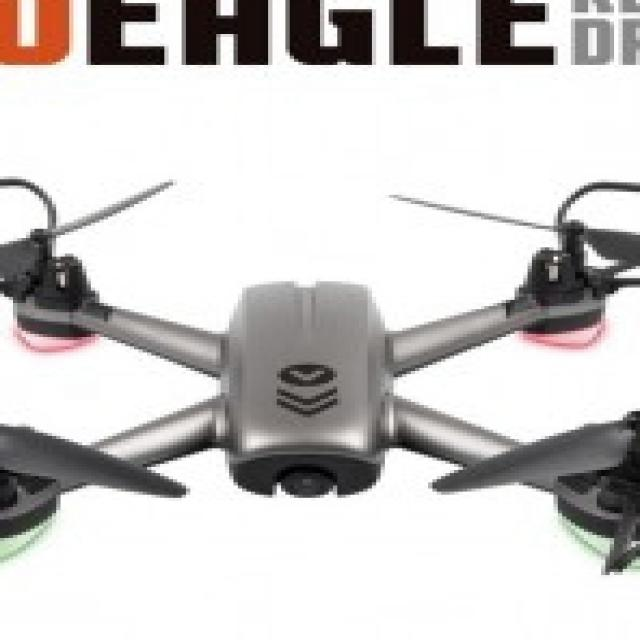drone: (0, 145, 640, 600)
